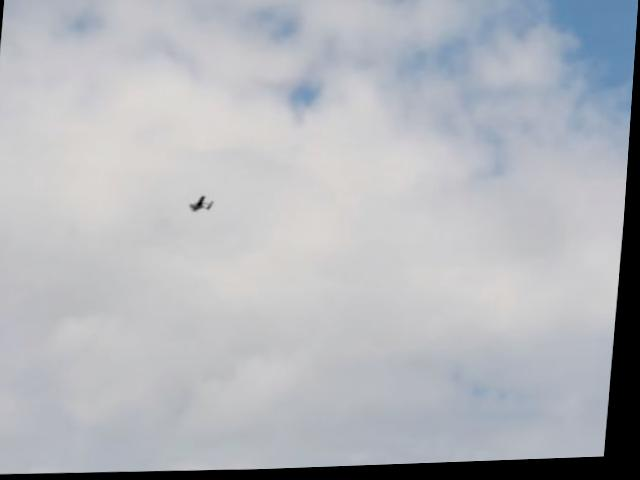uav: (189, 194, 221, 216)
